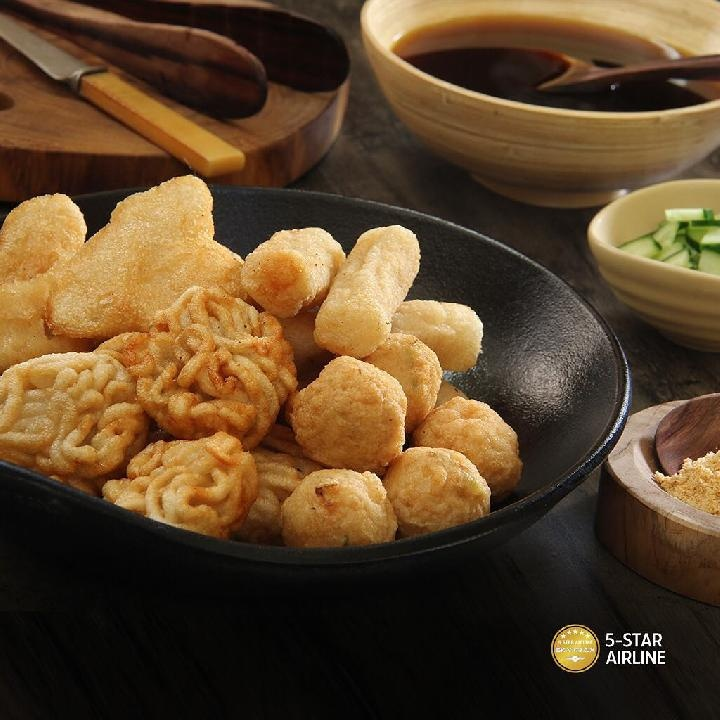pempek: (0, 185, 599, 539)
